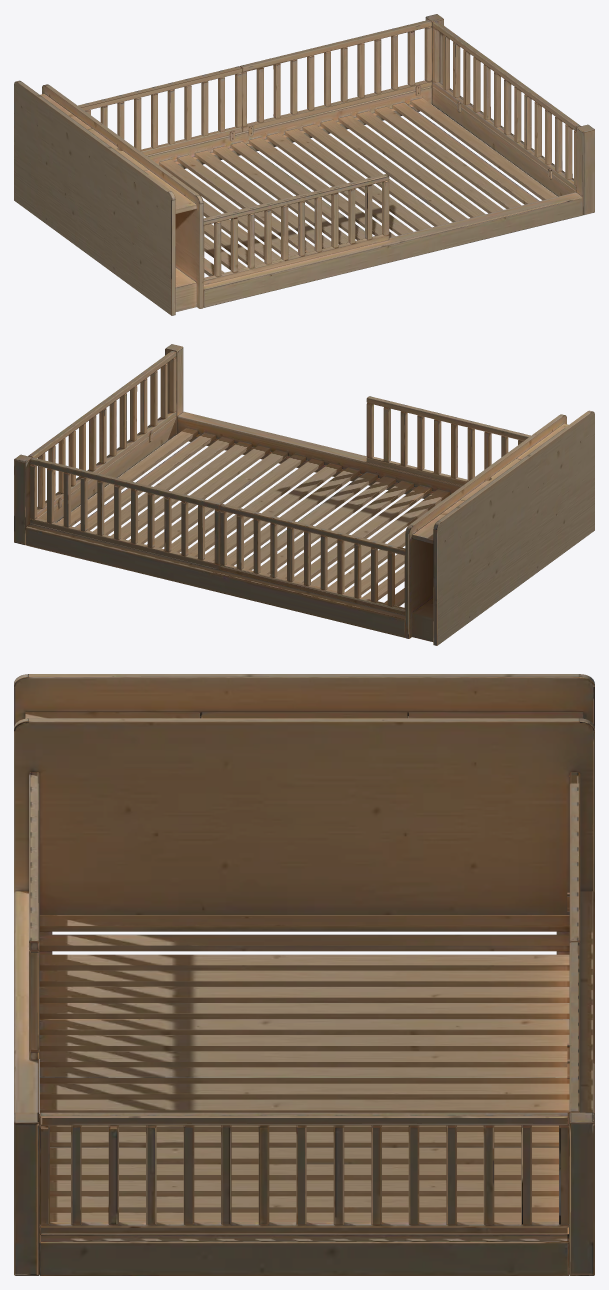
3 views of the same model, one above another, from view 1: azimuth 30°, elevation 25°; view 2: azimuth 150°, elevation 25°; view 3: azimuth 270°, elevation 25° (orthographic). The views are drawn at different scales.
Parts seen in each view (by area): view 1: 190x120; view 2: 190x120; view 3: 190x120.
Boxes of the visible parts, x1,y1,x2,y2 form: 190x120: (14,14,594,315); 190x120: (14,344,594,645); 190x120: (14,674,594,1275).
Size of the model in its own units: 2.12 by 0.58 by 1.37.
Materials: 1 (1 with a texture image).
